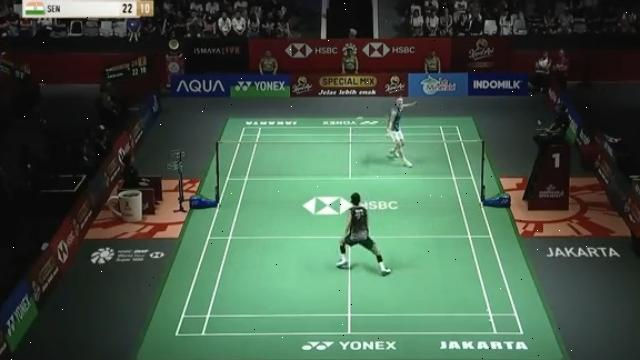Shuttlecock: (352, 112, 368, 124)
